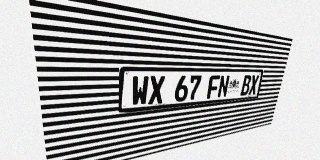6: (174, 75, 190, 102)
7: (187, 75, 202, 101)
B: (240, 75, 252, 96)
F: (206, 75, 220, 99)
N: (217, 75, 230, 98)
W: (131, 76, 149, 106)
X: (148, 76, 165, 105), (248, 75, 259, 95)
